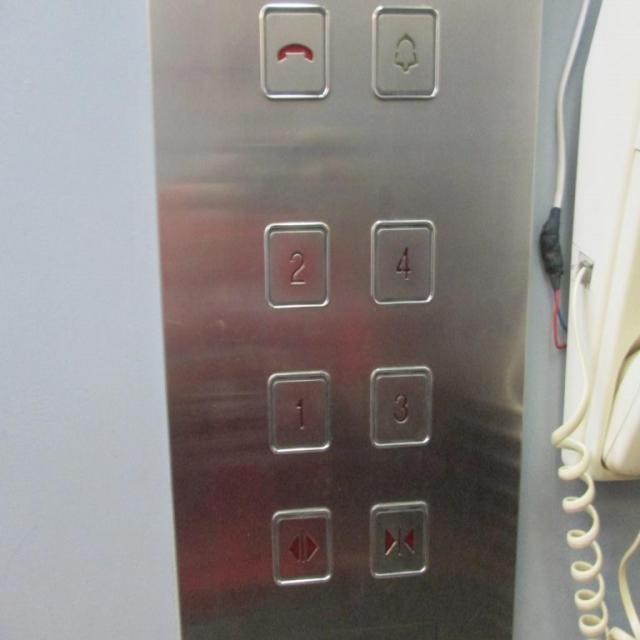1: (263, 367, 336, 460)
2: (261, 217, 333, 315)
3: (366, 362, 434, 453)
4: (368, 215, 438, 304)
alarm: (367, 0, 444, 103)
call: (256, 0, 331, 102)
close: (365, 494, 431, 582)
open: (268, 505, 338, 588)
